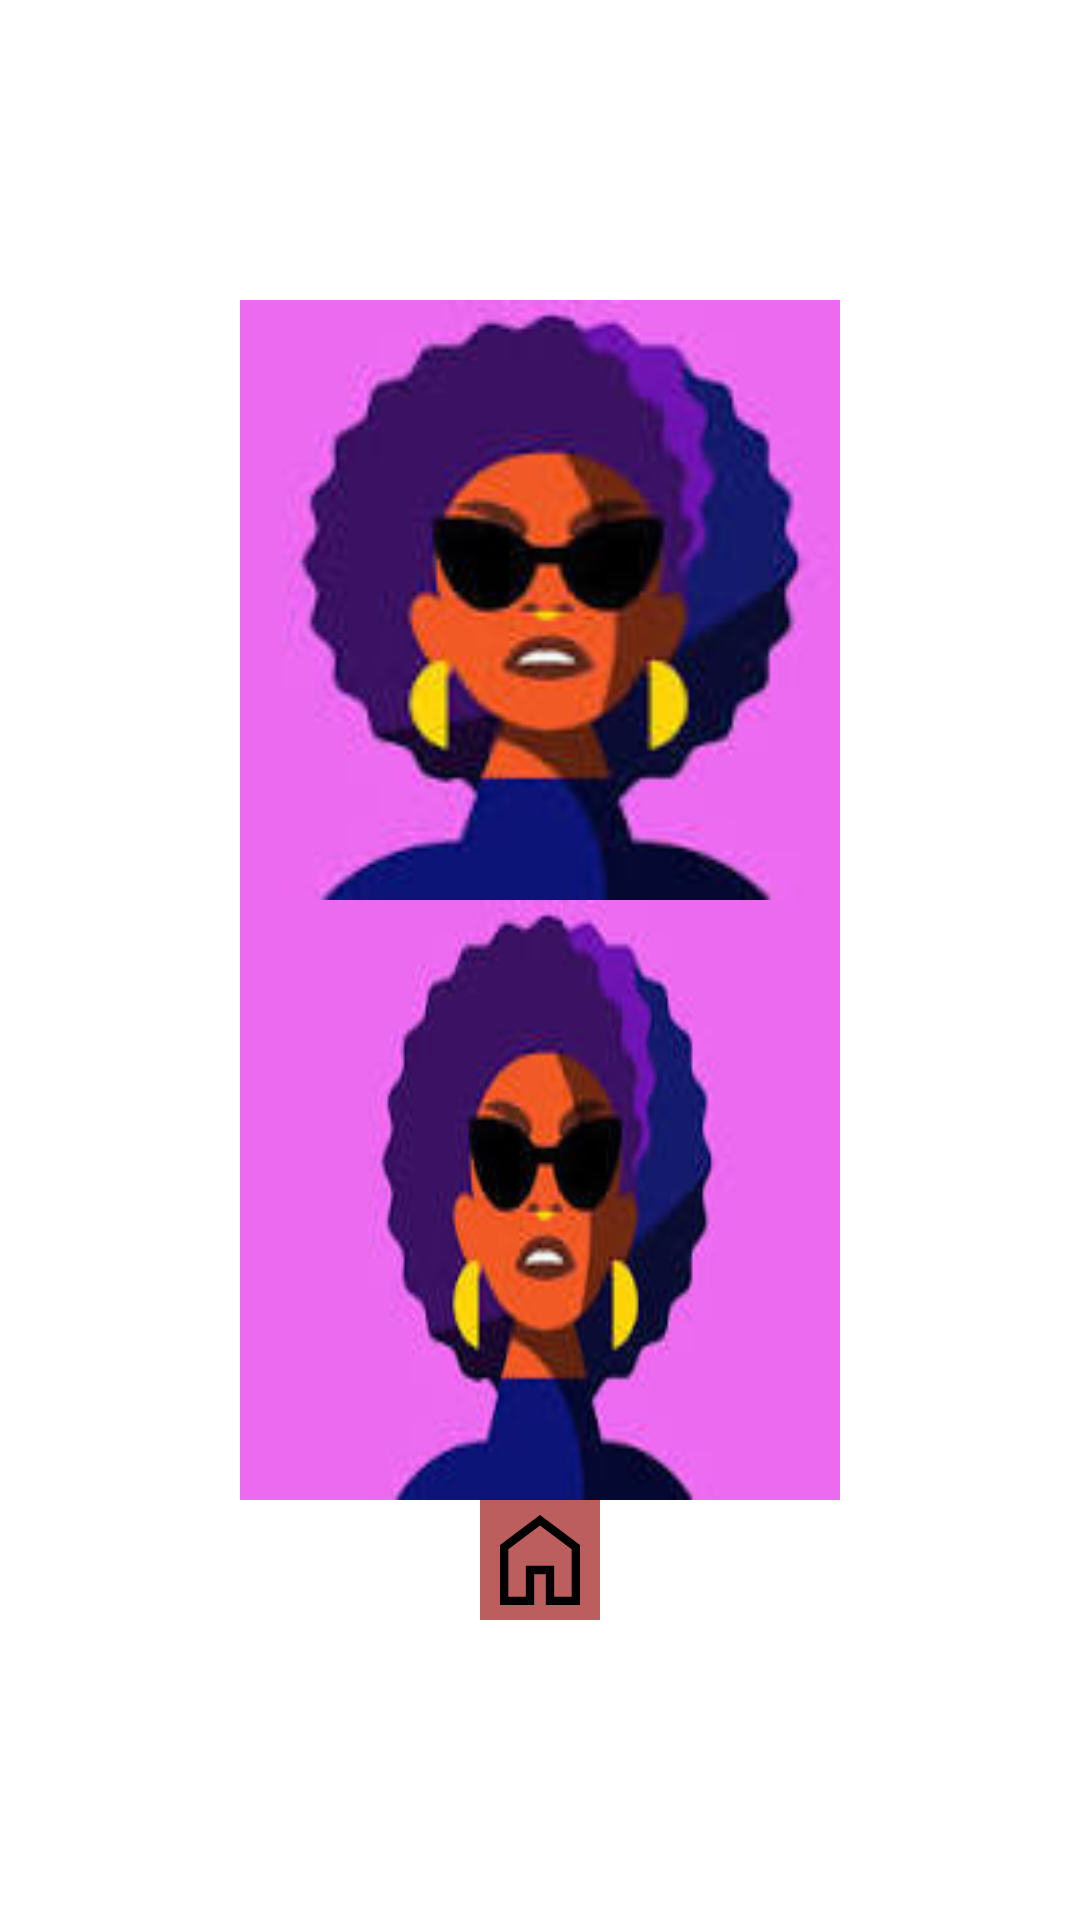

Screen size 1080×1920. Icon name, then its center in pixels as [x,y]:
home: [540,1560]
